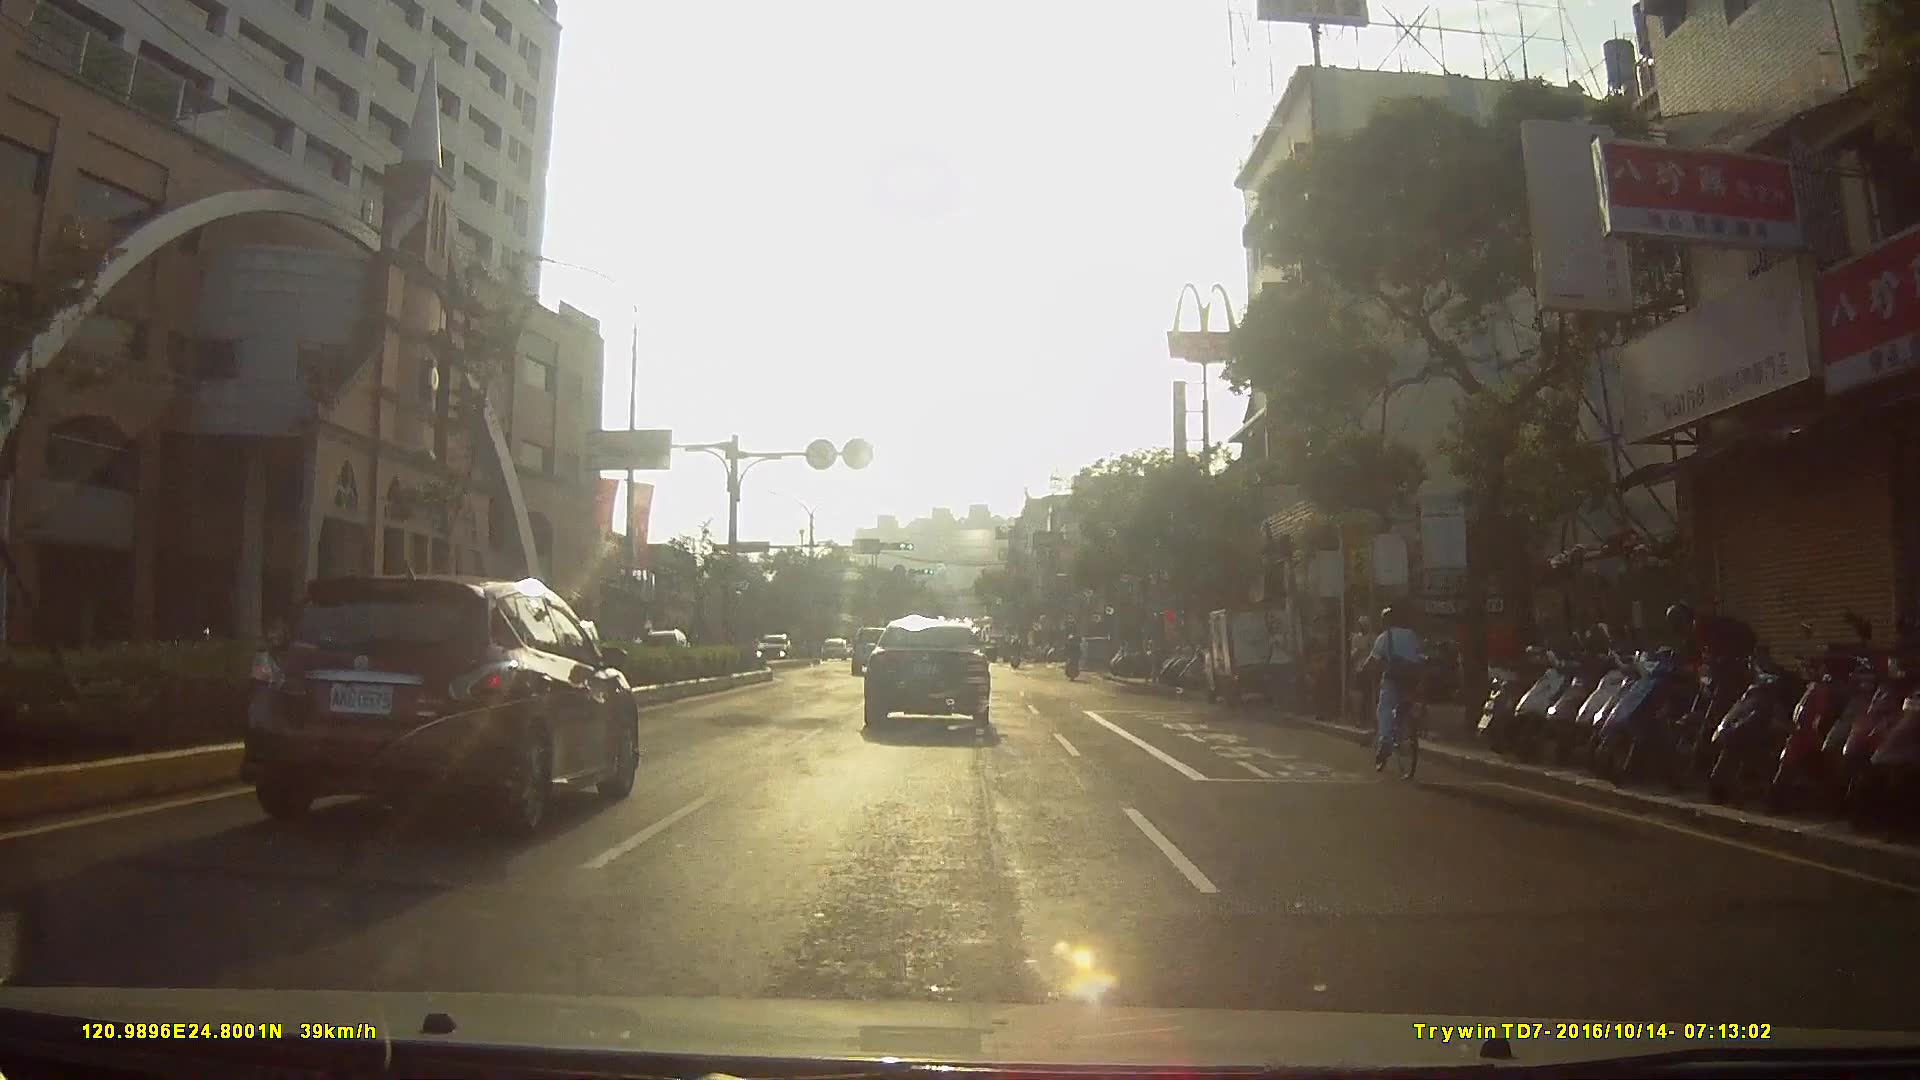pedestrian: (1350, 611, 1394, 724)
rider: (1351, 607, 1431, 782), (1065, 625, 1087, 678)
vehicle: (231, 564, 650, 832), (861, 610, 1003, 739), (1209, 594, 1322, 706), (847, 621, 906, 674), (753, 625, 796, 656), (815, 631, 843, 658)
